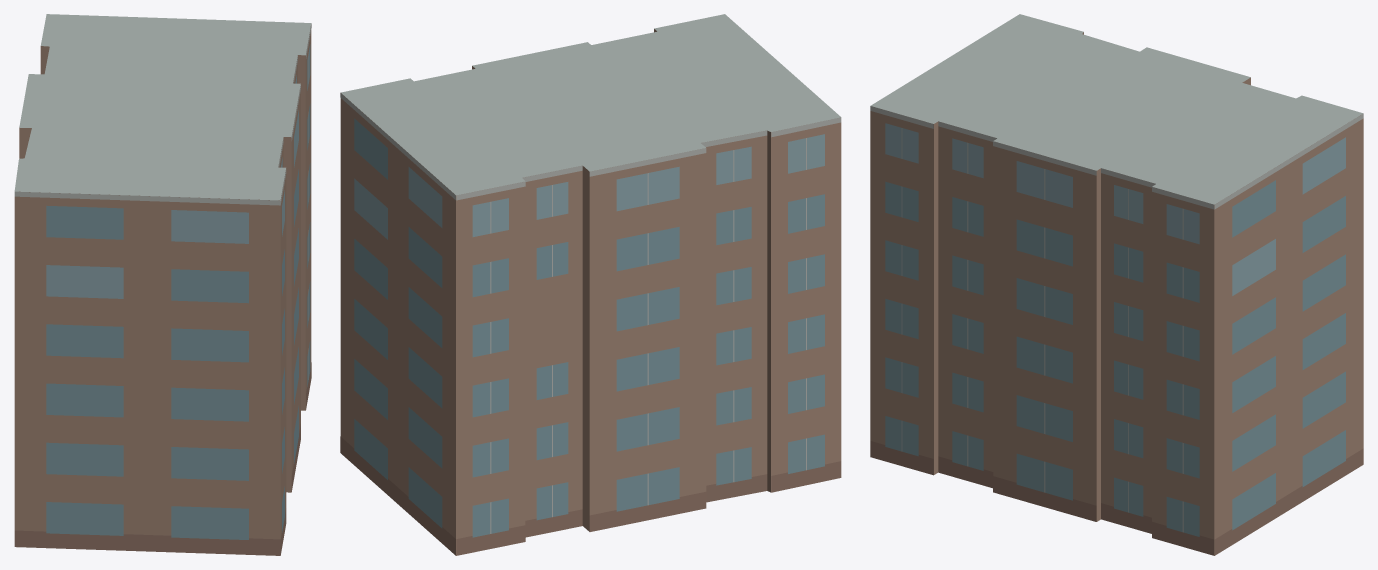
Rendered from survey-upis-32540209.glb.
3 renders of one model, left to right at view 1: azimuth 30°, elevation 25°; view 2: azimuth 150°, elevation 25°; view 3: azimuth 270°, elevation 25°, orthographic. The views are drawn at different scales.
Visible parts, largest first — view 1: survey-upis-32540209.tmp; view 2: survey-upis-32540209.tmp; view 3: survey-upis-32540209.tmp.
Boxes of the visible parts, x1,y1,x2,y2 form: survey-upis-32540209.tmp: (14, 14, 311, 555); survey-upis-32540209.tmp: (340, 14, 841, 555); survey-upis-32540209.tmp: (870, 14, 1363, 555).
Size of the model in its own units: 20.03 by 17.2 by 21.9.
